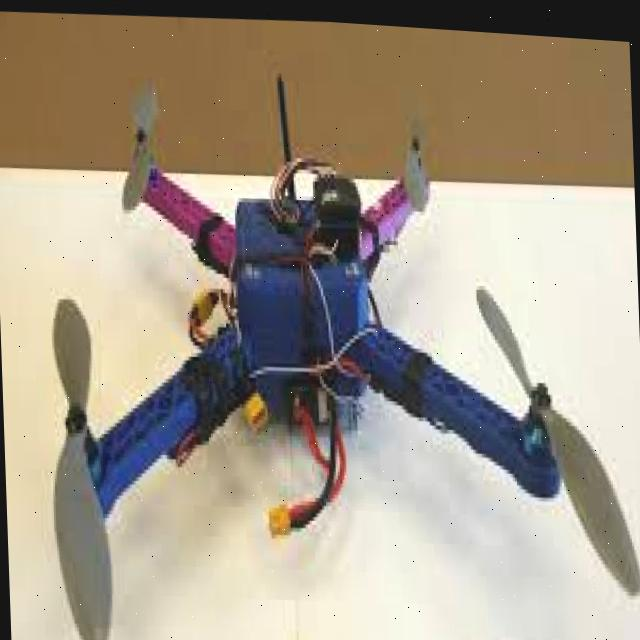drone: (33, 57, 634, 640)
